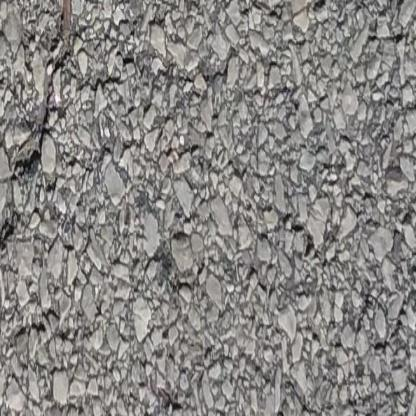Cracks: (179, 0, 339, 416), (0, 340, 6, 416)
